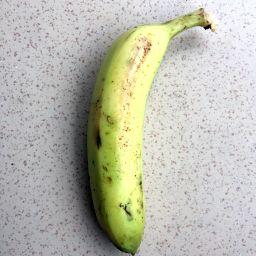Banana Ripe: (83, 9, 205, 256)
